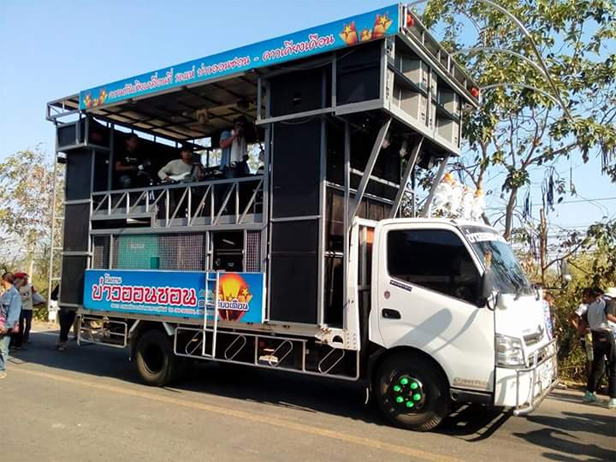truck: (42, 3, 561, 433)
